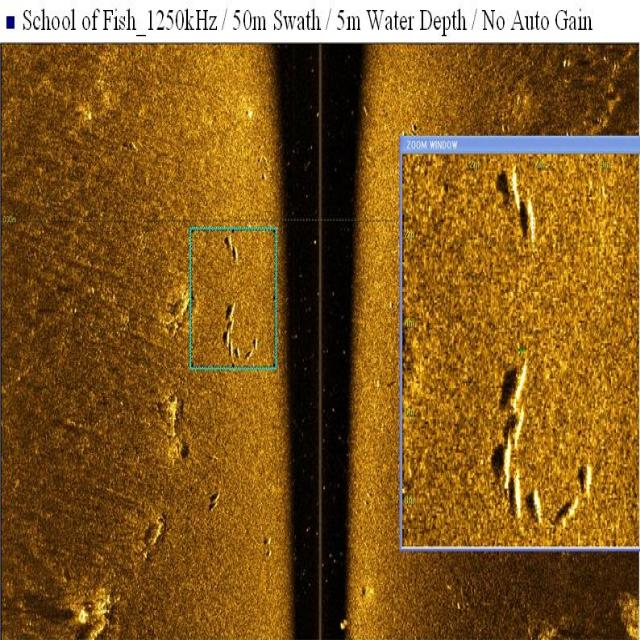fish: (508, 353, 524, 409), (523, 197, 540, 245), (501, 427, 513, 490), (505, 163, 520, 211), (560, 488, 577, 528), (532, 482, 546, 528), (510, 469, 522, 518), (584, 456, 592, 502), (514, 405, 522, 443), (225, 298, 236, 320), (222, 231, 233, 249), (226, 338, 234, 361), (223, 327, 230, 349), (231, 242, 238, 262)
